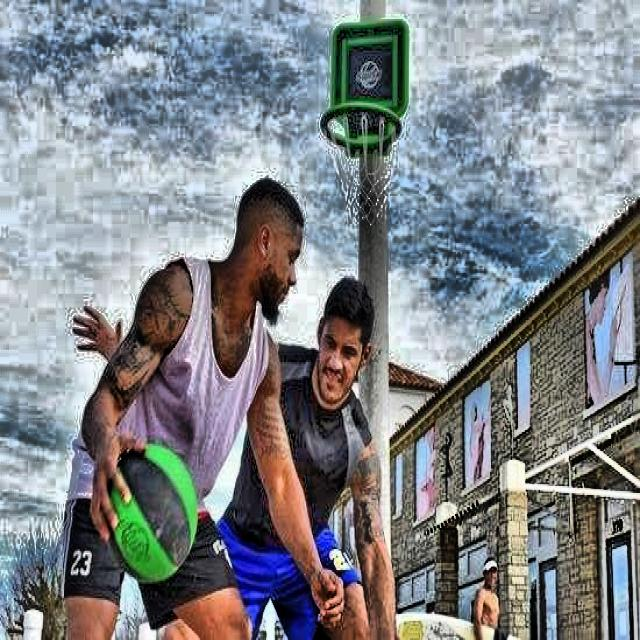board: (111, 444, 197, 581)
rim: (318, 104, 403, 226)
